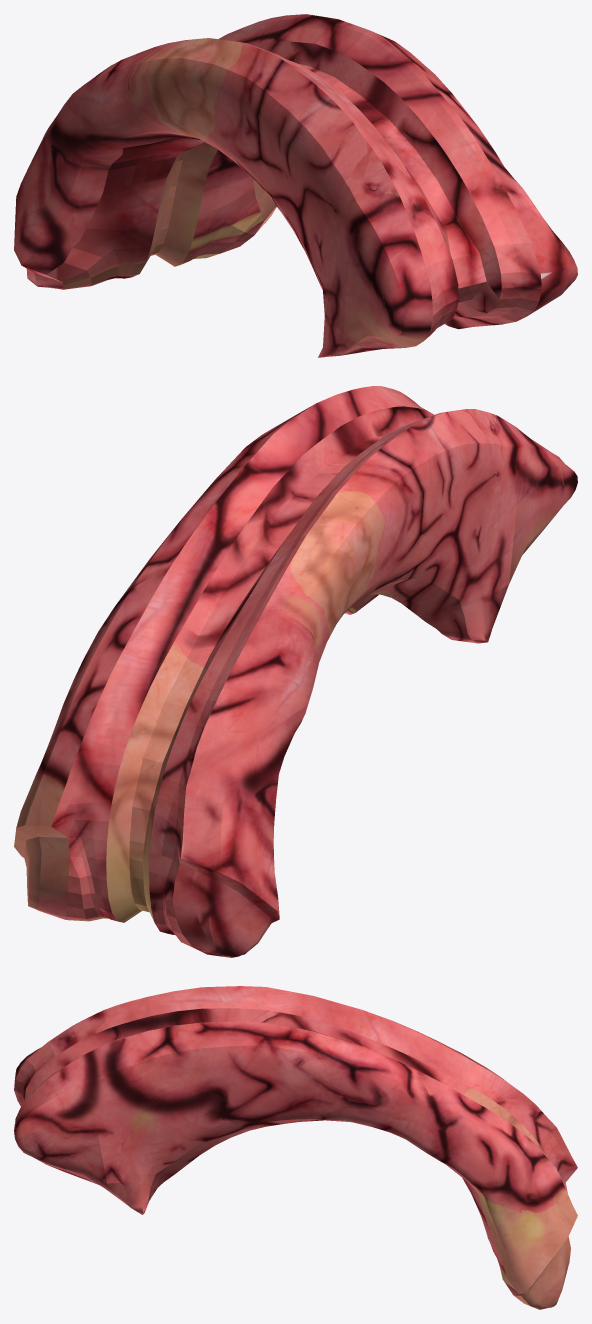
File: corpus_callosum01.fbx
The picture shows the model from 3 angles, top to bottom: view 1: azimuth 30°, elevation 25°; view 2: azimuth 150°, elevation 25°; view 3: azimuth 270°, elevation 25°; orthographic projection. The views are drawn at different scales.
Visible parts, largest first — view 1: L_Cerebrum17; view 2: L_Cerebrum17; view 3: L_Cerebrum17.
Part boxes in pixels (x1,y1,x2,y2): L_Cerebrum17: (14,14,577,357); L_Cerebrum17: (14,386,577,957); L_Cerebrum17: (14,986,577,1309).
Bounding box in the file's own units: 2.92 × 3.8 × 7.11.
1 material, 1 textured.
